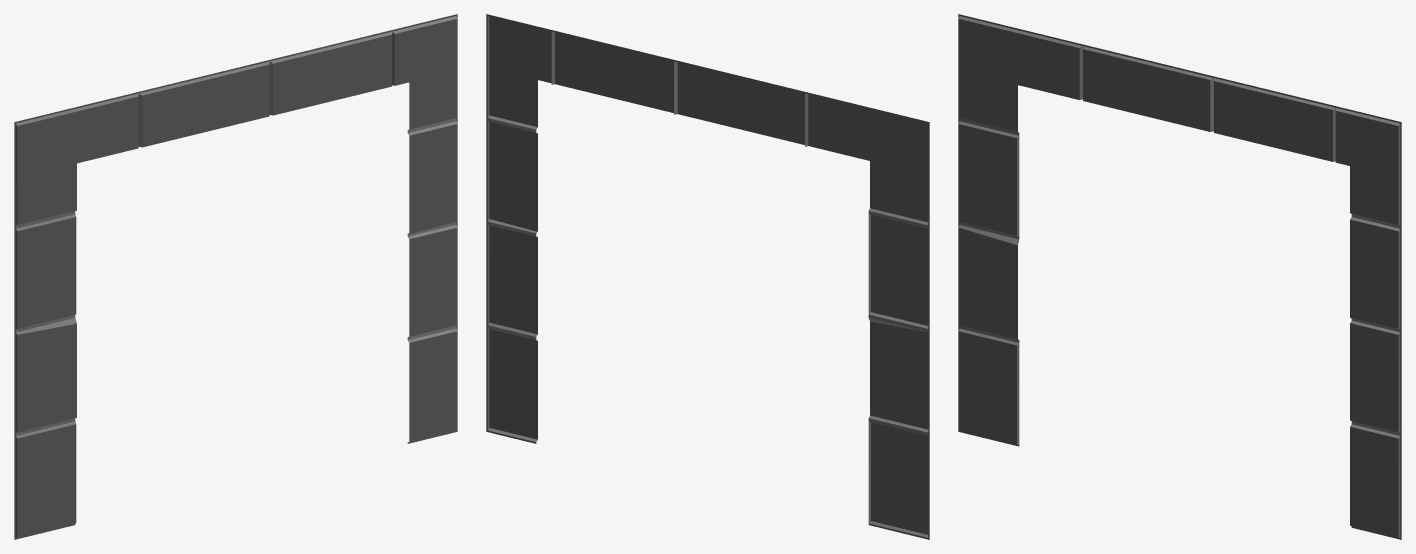
File: ArchWall_02.fbx
3 views of the same model, side by side, from view 1: azimuth 30°, elevation 25°; view 2: azimuth 150°, elevation 25°; view 3: azimuth 330°, elevation 25° (orthographic).
Visible parts, largest first — view 1: ArchWall_02; view 2: ArchWall_02; view 3: ArchWall_02.
Boxes of the visible parts, box(x1,y1,x2,y2) form: ArchWall_02: box(14, 14, 457, 539); ArchWall_02: box(486, 14, 929, 539); ArchWall_02: box(958, 14, 1401, 539).
Bounding box in the file's own units: 280 × 252 × 1.76.
